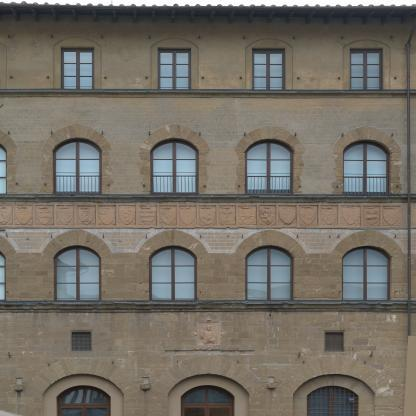Building Outline: (0, 1, 416, 416)
Deco: (0, 204, 403, 229), (191, 316, 227, 351)
Facade: (0, 2, 416, 416)
Floor: (1, 120, 415, 222), (1, 228, 415, 323), (1, 329, 415, 415)
Floor Slab: (0, 323, 416, 329), (0, 114, 416, 120), (0, 222, 416, 228)
Molding: (0, 7, 416, 24)
Top Floor: (1, 16, 415, 114)
Window: (52, 138, 102, 194), (342, 245, 392, 300), (245, 245, 294, 301), (150, 138, 199, 194), (245, 138, 294, 194), (53, 245, 102, 300), (149, 245, 198, 300), (343, 139, 391, 194), (56, 385, 111, 416), (181, 385, 235, 416), (306, 385, 359, 416), (350, 48, 383, 90), (61, 47, 94, 89), (158, 48, 191, 90), (253, 48, 286, 90), (71, 332, 91, 351), (325, 332, 344, 351), (0, 143, 7, 194), (0, 251, 6, 301)
